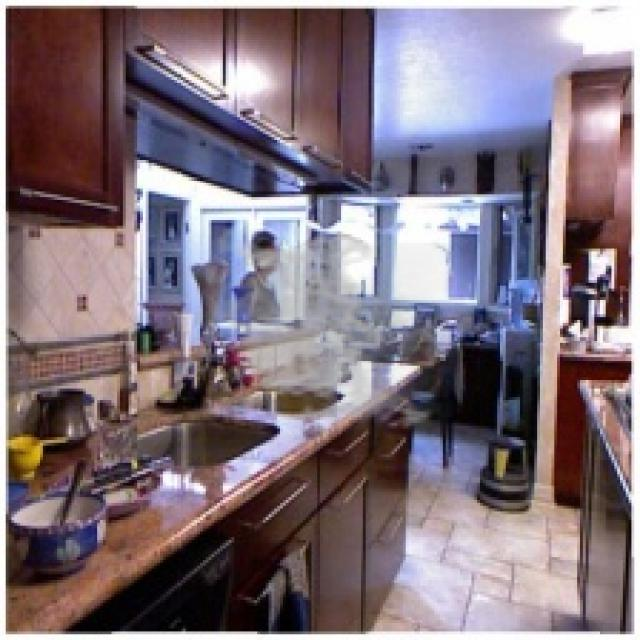smoke: (208, 229, 463, 434)
